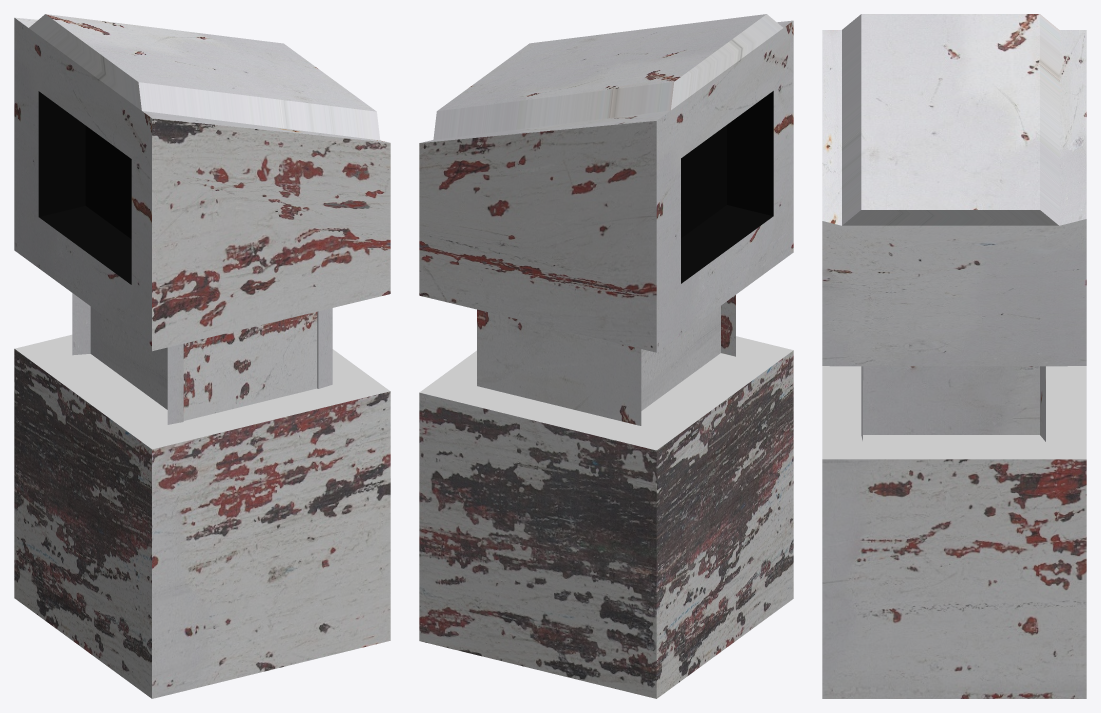
The model's file is SpaceStationLight.fbx.
3 renders of one model, left to right at view 1: azimuth 30°, elevation 25°; view 2: azimuth 150°, elevation 25°; view 3: azimuth 270°, elevation 25°, orthographic. The views are drawn at different scales.
Parts seen in each view (by area): view 1: Cube; view 2: Cube; view 3: Cube.
Boxes of the visible parts, box(x1,y1,x2,y2) form: Cube: box(14, 14, 390, 698); Cube: box(419, 14, 793, 698); Cube: box(822, 14, 1086, 698).
Size of the model in its own units: 19.21 by 44.97 by 18.69.
